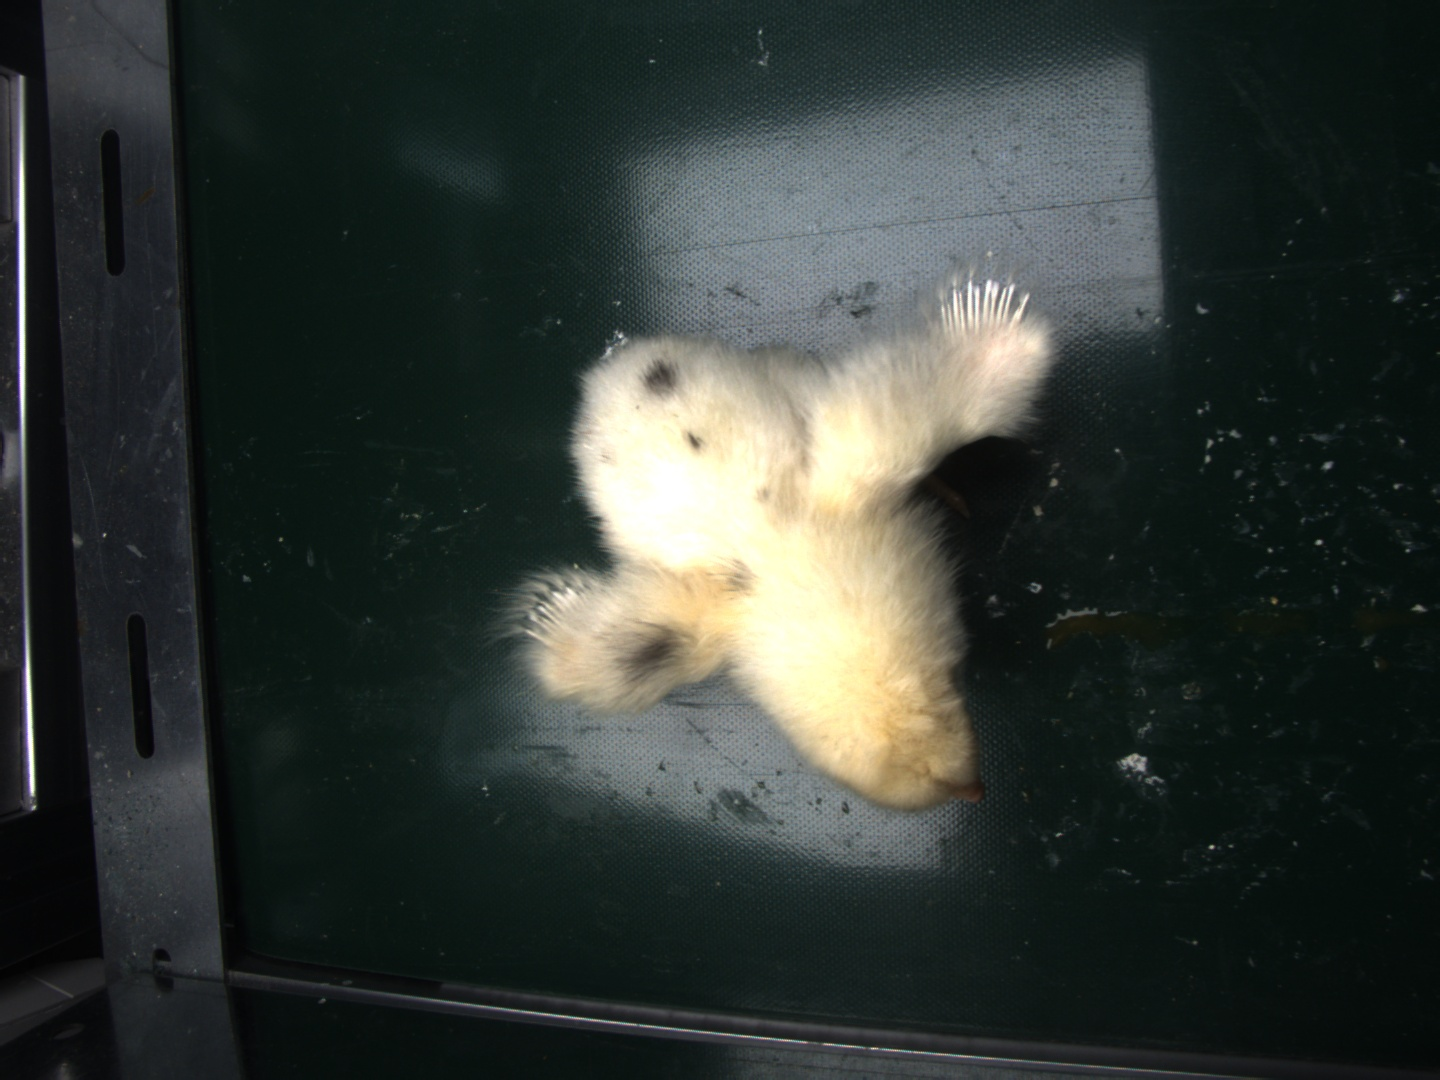male: (943, 275, 1033, 336)
